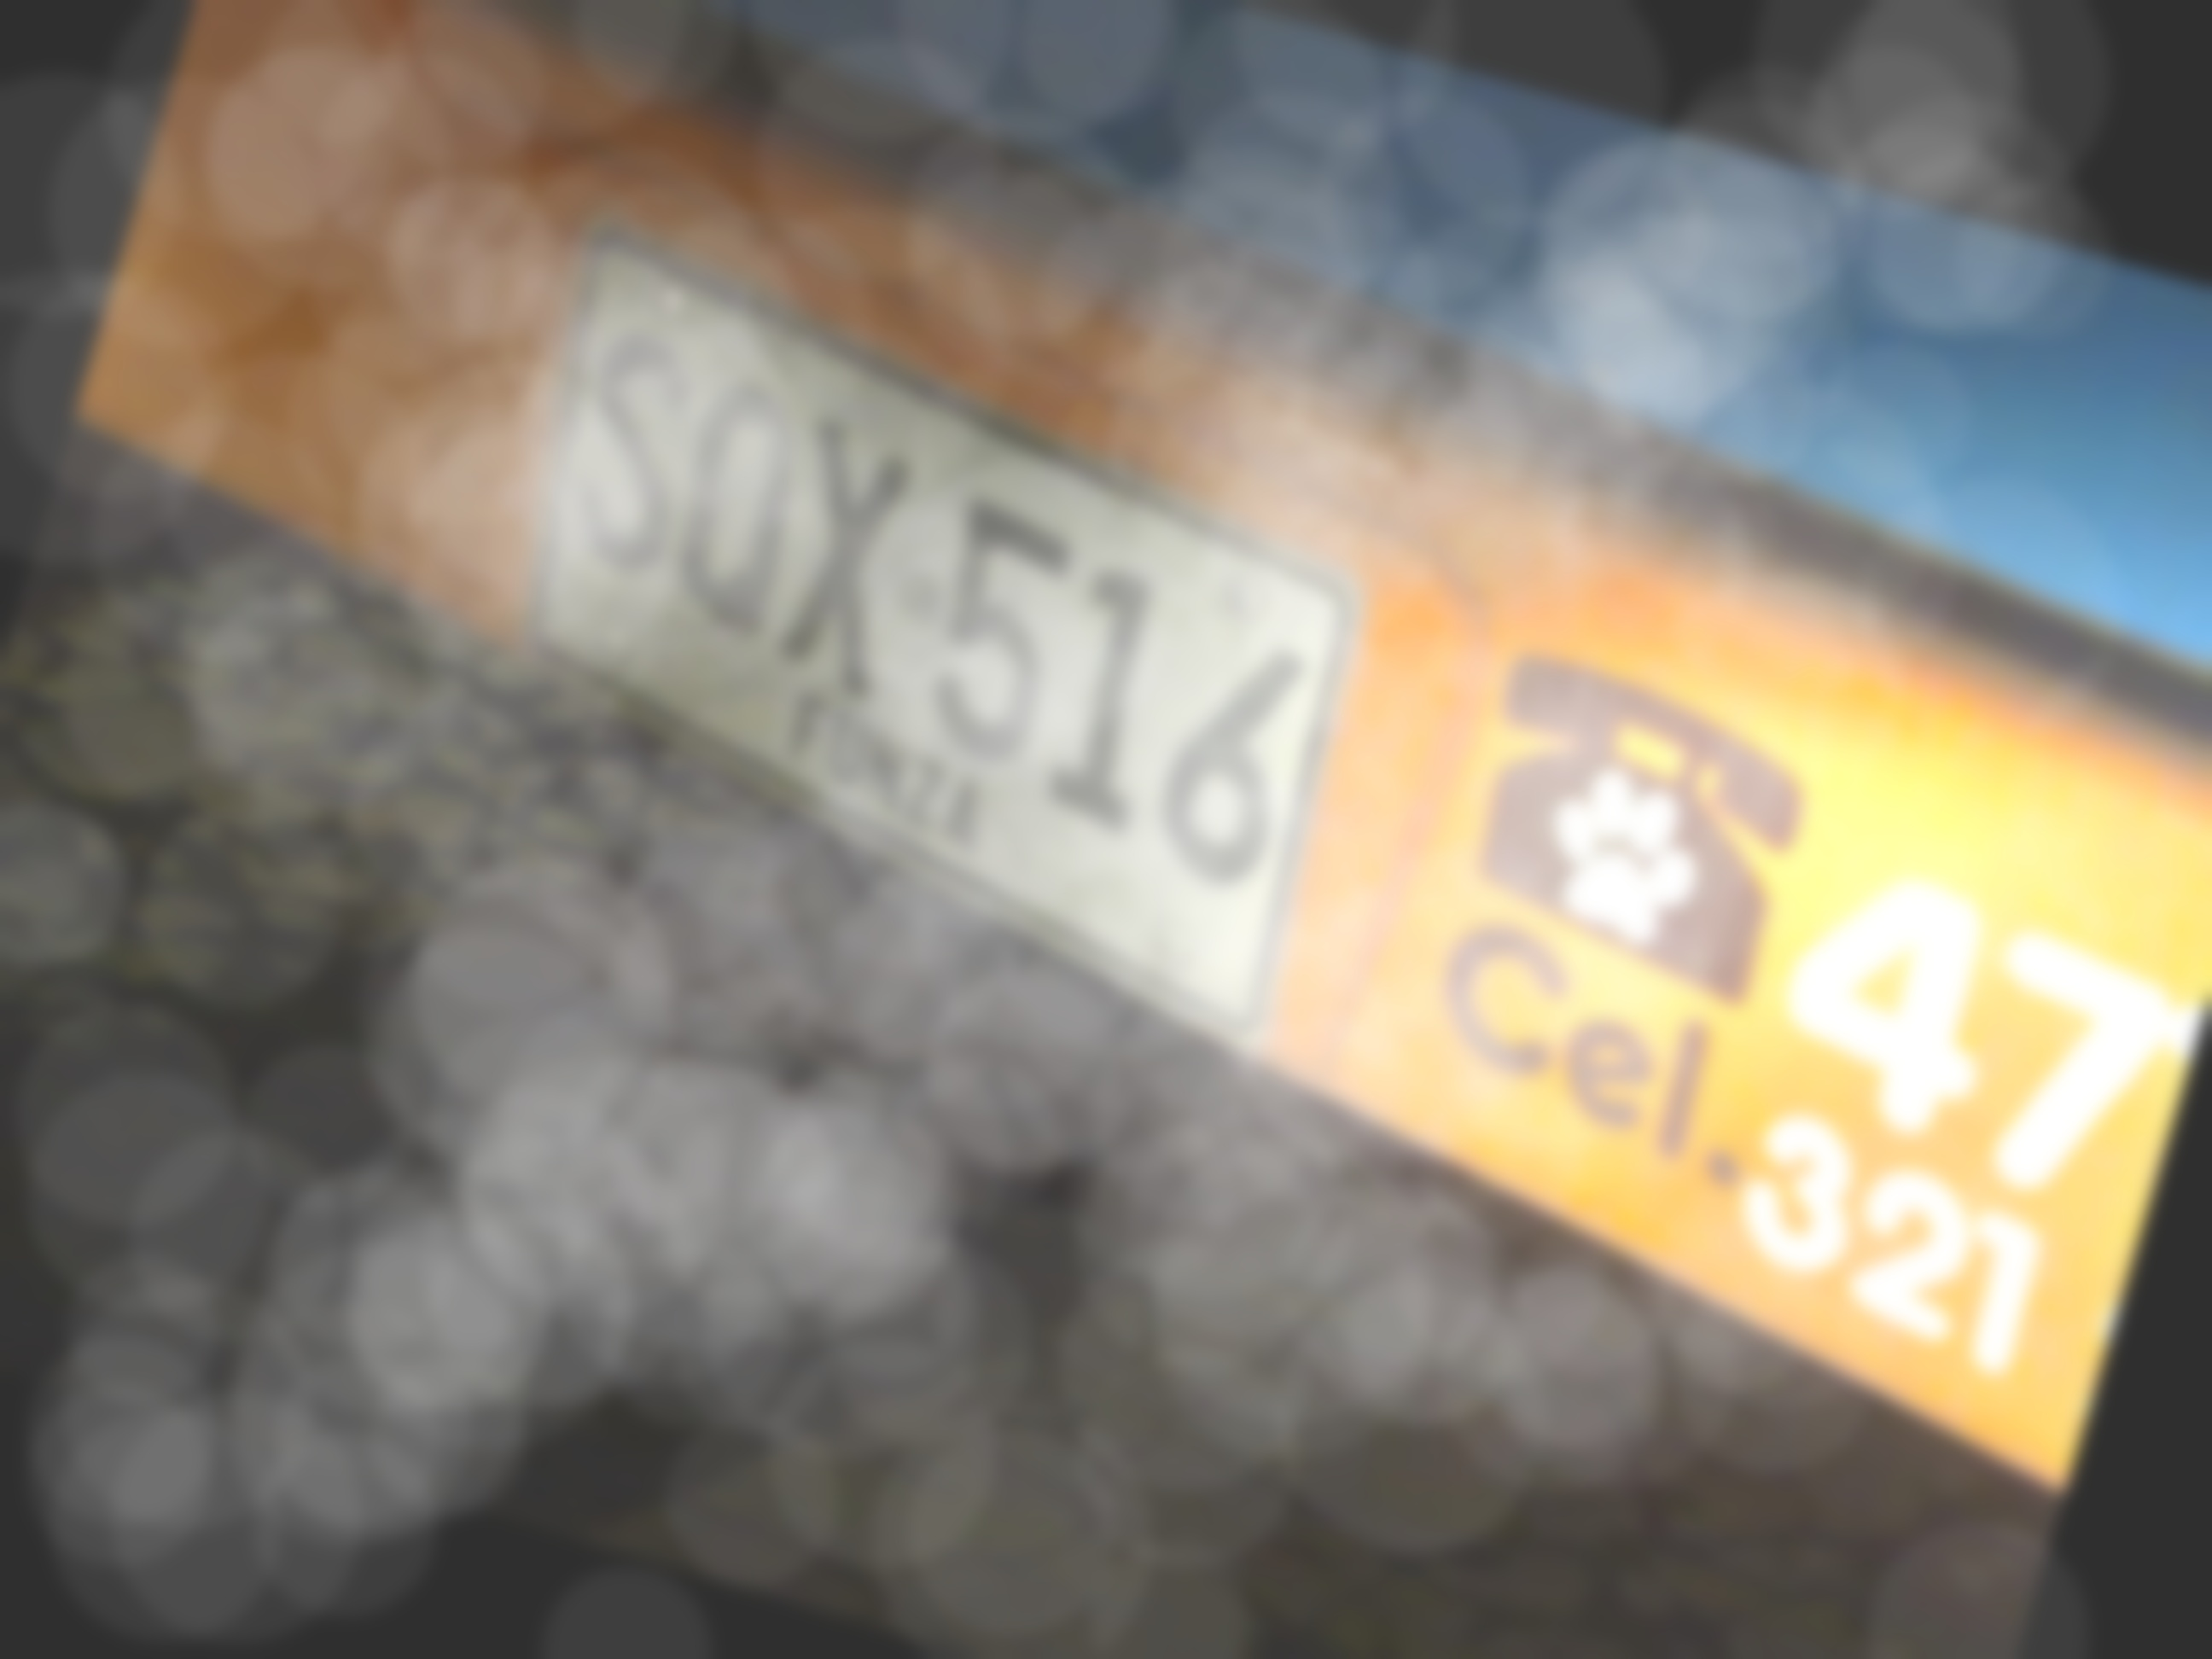placas: (416, 212, 1440, 1059)
